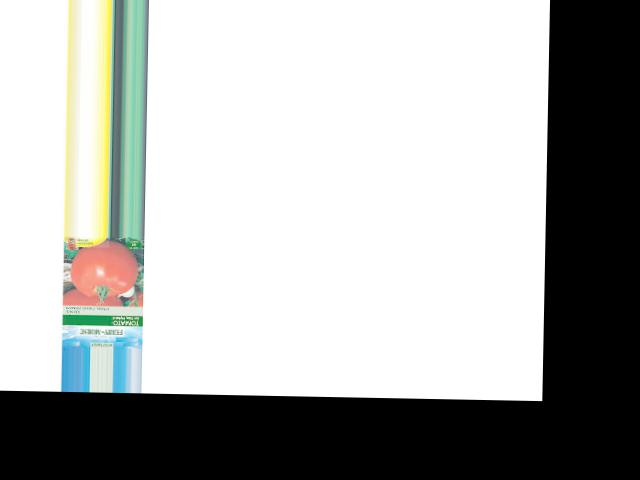tomato: (70, 239, 138, 297)
